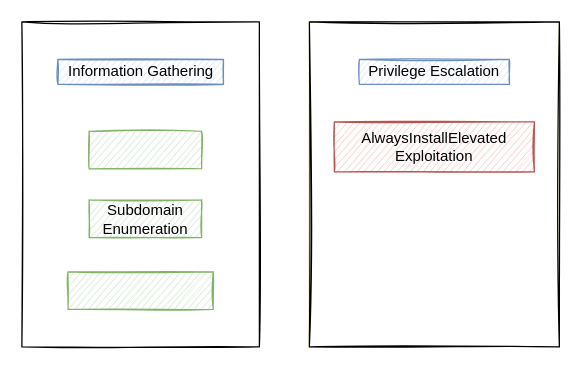
The diagram is 581 pixels wide and 369 high, and some of its shapes have lost their labels. Each missing label, with the centre of its shape:
"Remote File Inclusion" goes at [140,290].
"Web Enumeration" goes at [145,149].
